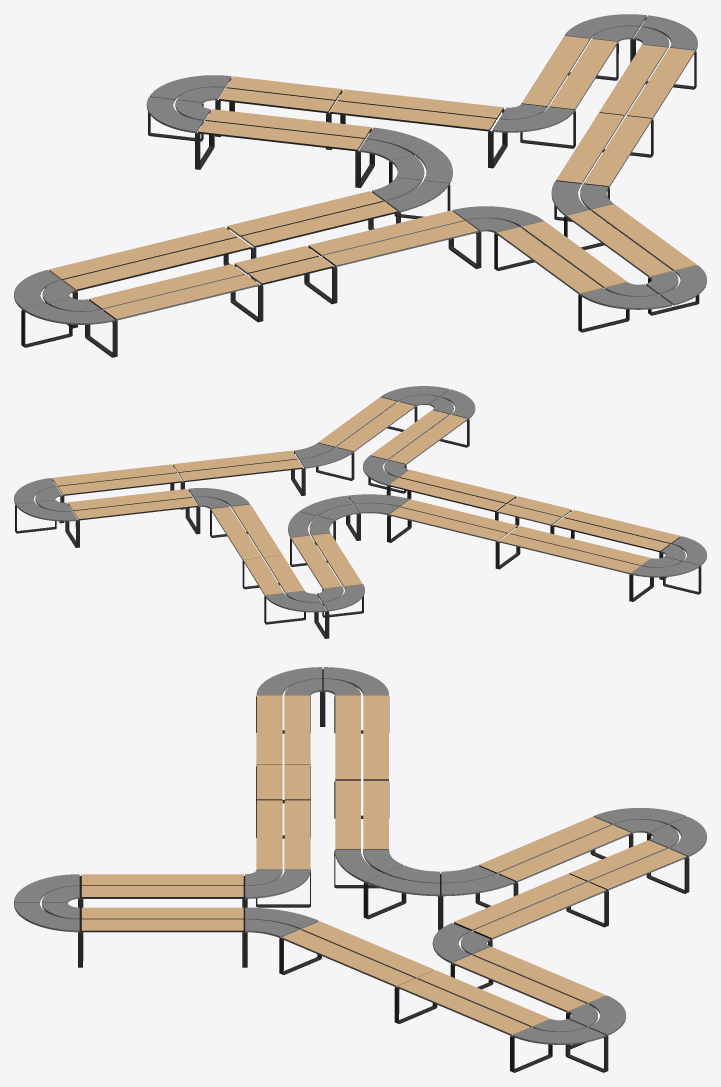
The picture shows the model from 3 angles, top to bottom: view 1: azimuth 30°, elevation 25°; view 2: azimuth 150°, elevation 25°; view 3: azimuth 270°, elevation 25°; orthographic projection. The views are drawn at different scales.
Parts seen in each view (by area): view 1: FullBench_Material #1_0, FullBench_Material #2_0, Legs_Material #3_0, FullBench_Material #3_0; view 2: FullBench_Material #1_0, FullBench_Material #2_0, Legs_Material #3_0, FullBench_Material #3_0; view 3: FullBench_Material #1_0, FullBench_Material #2_0, Legs_Material #3_0, FullBench_Material #3_0.
Part boxes in pixels (<box>): FullBench_Material #1_0: <box>49,36,696,318</box>; FullBench_Material #2_0: <box>14,14,706,324</box>; Legs_Material #3_0: <box>21,17,699,357</box>; FullBench_Material #3_0: <box>62,87,651,320</box>; FullBench_Material #1_0: <box>52,397,680,595</box>; FullBench_Material #2_0: <box>14,386,706,612</box>; Legs_Material #3_0: <box>15,406,701,638</box>; FullBench_Material #3_0: <box>57,442,680,552</box>; FullBench_Material #1_0: <box>81,695,685,1035</box>; FullBench_Material #2_0: <box>14,667,706,1044</box>; Legs_Material #3_0: <box>78,669,689,1072</box>; FullBench_Material #3_0: <box>82,779,607,939</box>.
Bounding box in the file's own units: 396 × 18.55 × 308.
